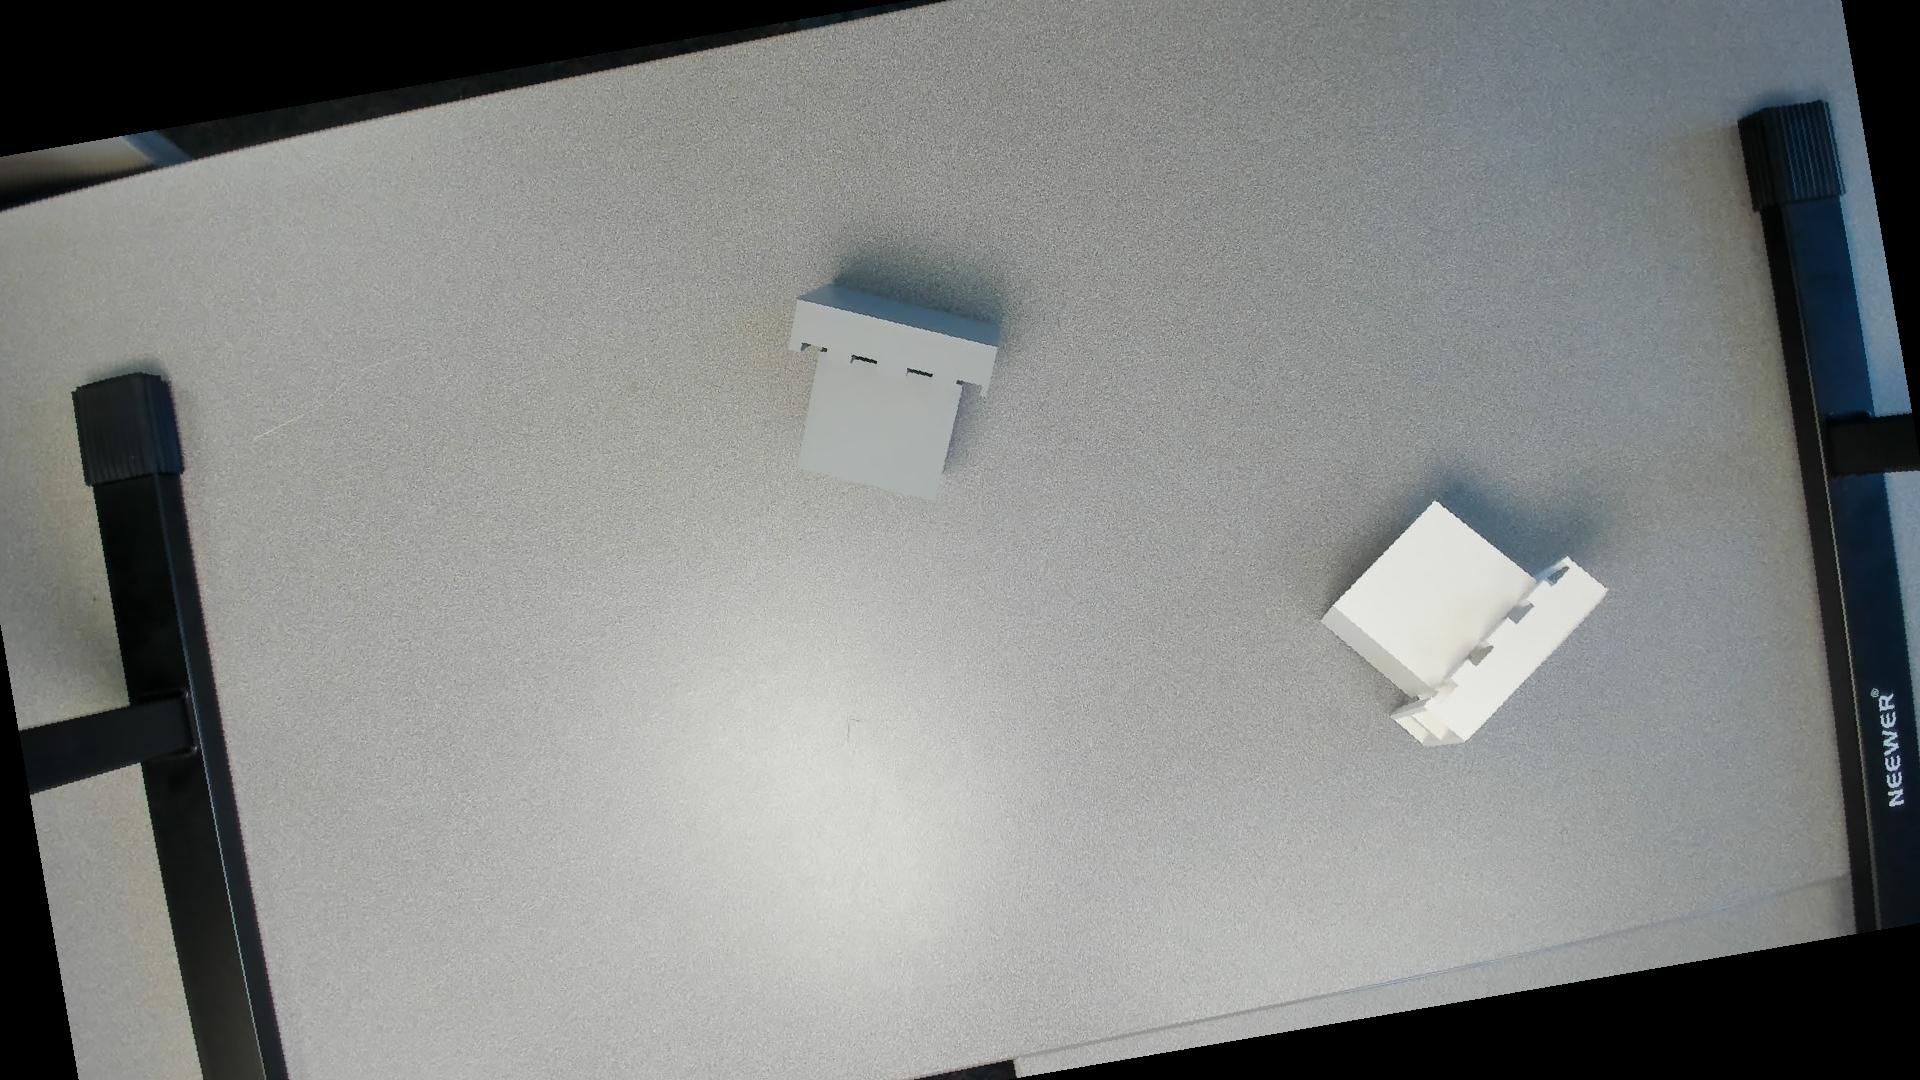grey pallet: (778, 276, 1026, 498)
white pallet: (1309, 496, 1619, 765)
